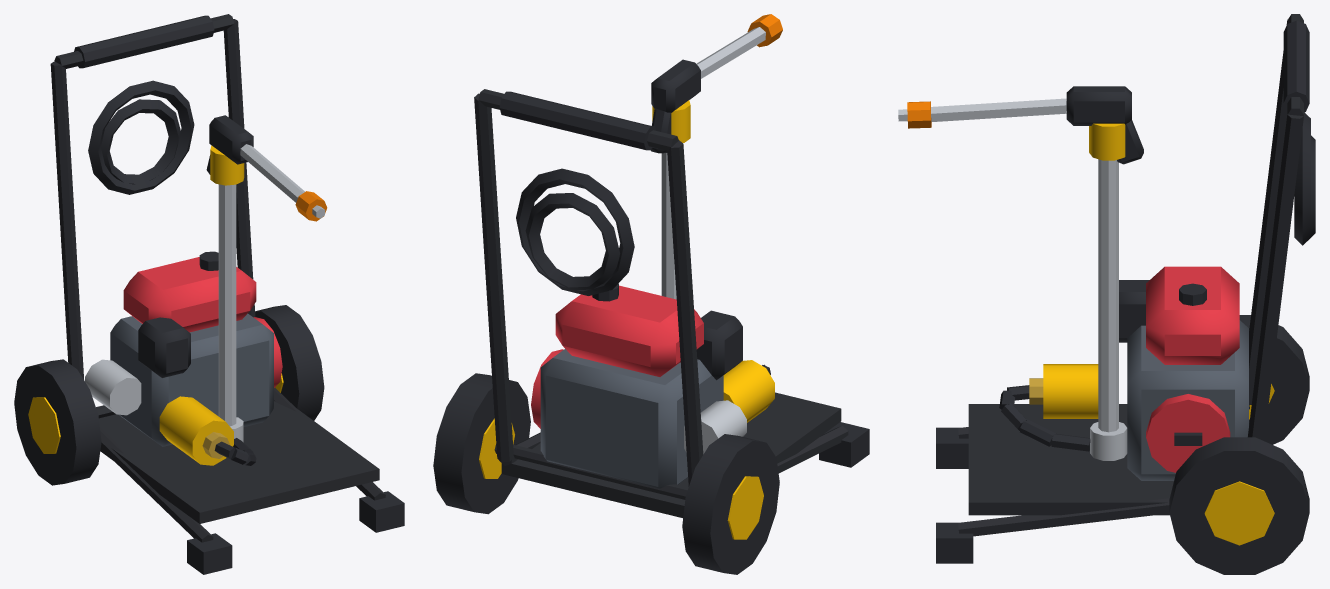
File: pressure_washer.glb
3 renders of one model, left to right at view 1: azimuth 30°, elevation 25°; view 2: azimuth 150°, elevation 25°; view 3: azimuth 270°, elevation 25°, orthographic. The views are drawn at different scales.
Parts seen in each view (by area): view 1: body, head; view 2: body, head; view 3: body, head.
Boxes of the visible parts, x1,y1,x2,y2 form: body: (14,14,404,574); head: (206,115,327,221); body: (433,89,869,574); head: (650,14,782,153); body: (936,14,1315,574); head: (898,86,1143,164).
Bounding box in the file's own units: 69.8 × 107 × 89.35.
